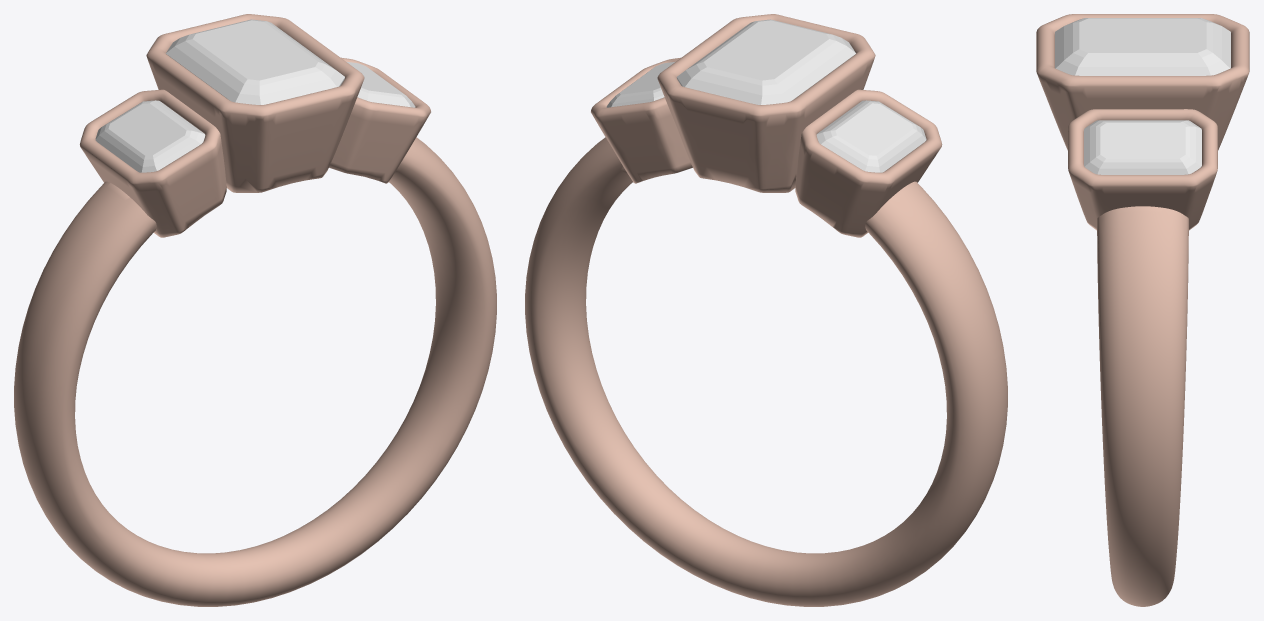
File: diamond-emerald-rosegold-bezelset-taperedband-3stone.glb
3 views of the same model, side by side, from view 1: azimuth 30°, elevation 25°; view 2: azimuth 150°, elevation 25°; view 3: azimuth 270°, elevation 25° (orthographic).
Visible parts, largest first — view 1: metal.002, stone.001, side.001, side.005; view 2: metal.002, stone.001, side.001, side.005; view 3: metal.002, stone.001, side.005.
Boxes of the visible parts, x1=… form: metal.002: x1=14, y1=14, x2=496, y2=606; stone.001: x1=166, y1=19, x2=344, y2=104; side.001: x1=95, y1=100, x2=205, y2=172; side.005: x1=346, y1=61, x2=415, y2=107; metal.002: x1=525, y1=14, x2=1007, y2=606; stone.001: x1=677, y1=19, x2=855, y2=104; side.001: x1=816, y1=100, x2=926, y2=172; side.005: x1=606, y1=61, x2=675, y2=107; metal.002: x1=1036, y1=14, x2=1249, y2=606; stone.001: x1=1055, y1=18, x2=1230, y2=75; side.005: x1=1084, y1=120, x2=1201, y2=174.
Bounding box in the file's own units: 20.49 × 22.94 × 8.11.
